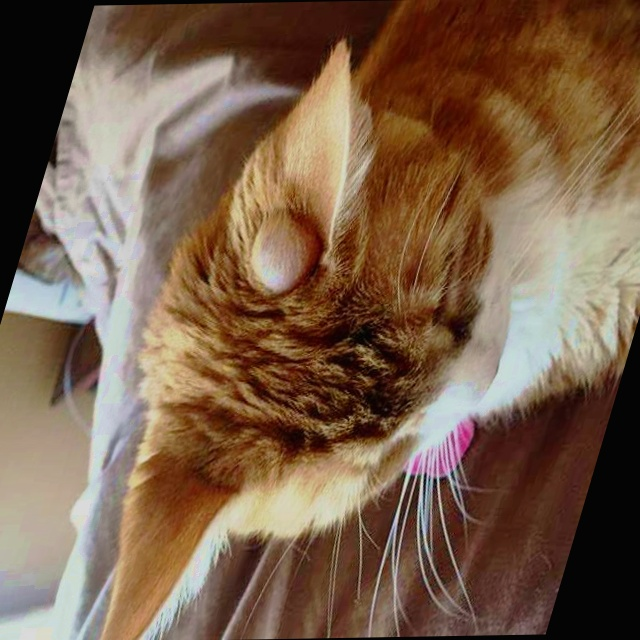lump_and_bump: (236, 218, 328, 292)
